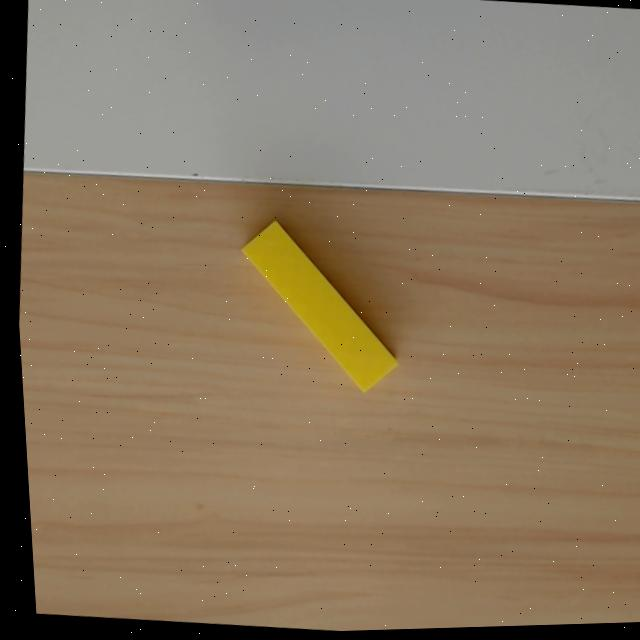Balok-Kuning-1002525: (238, 218, 398, 392)
